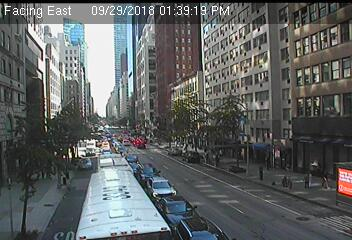car: (76, 172, 170, 240), (155, 196, 199, 232), (175, 218, 227, 240), (97, 155, 133, 186), (145, 177, 175, 201), (135, 164, 160, 185), (182, 151, 198, 163), (78, 158, 93, 170), (124, 153, 138, 165), (86, 139, 95, 155), (168, 148, 179, 155)
